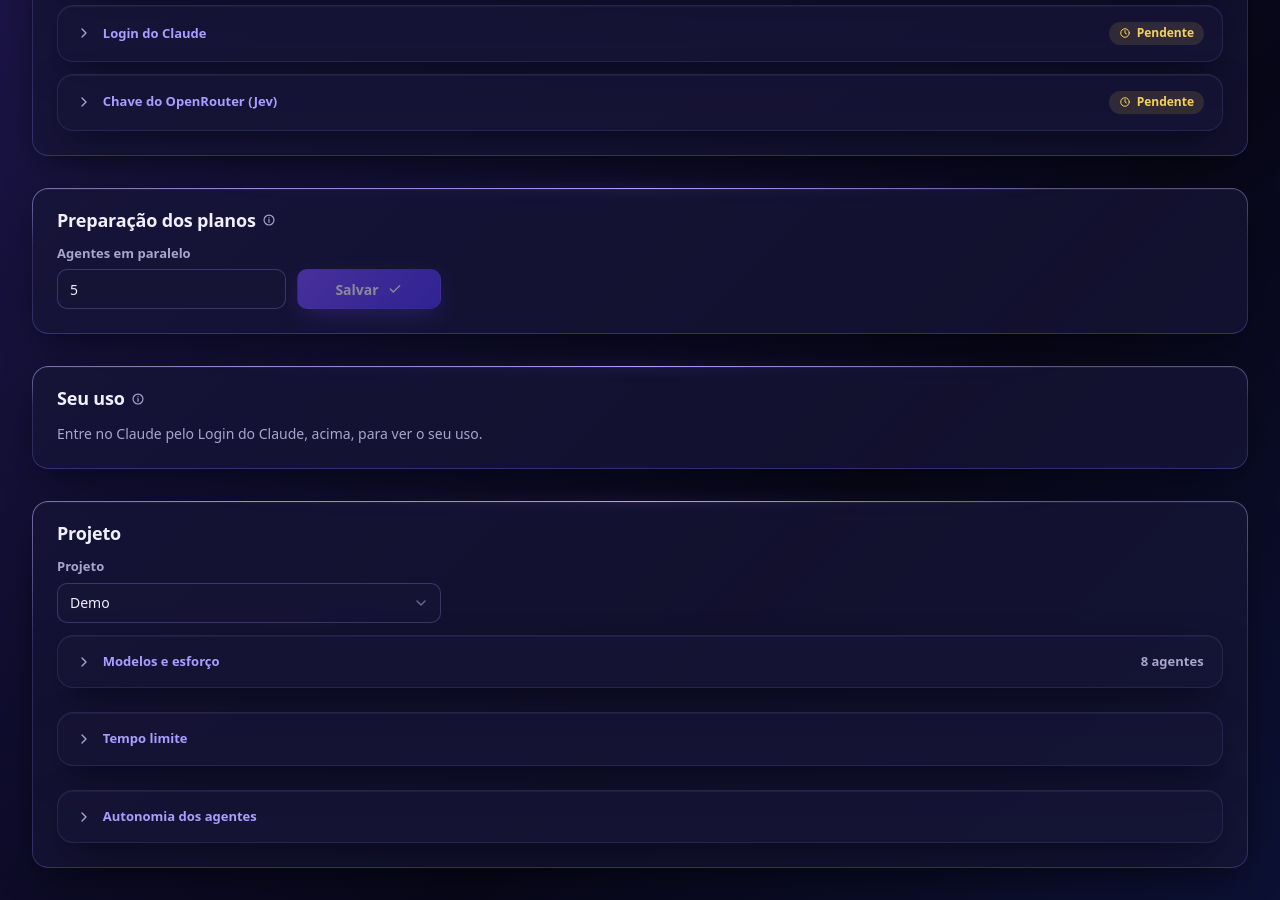
Test: SettingsPage › shows every agent on automatic and saves a manual pick with the default model and effort
This screenshot has width=1280, height=900.
(page scrolled)
Click the text "Modelos e esforço" at (161,661), box [103,652,220,670]
(page scrolled)
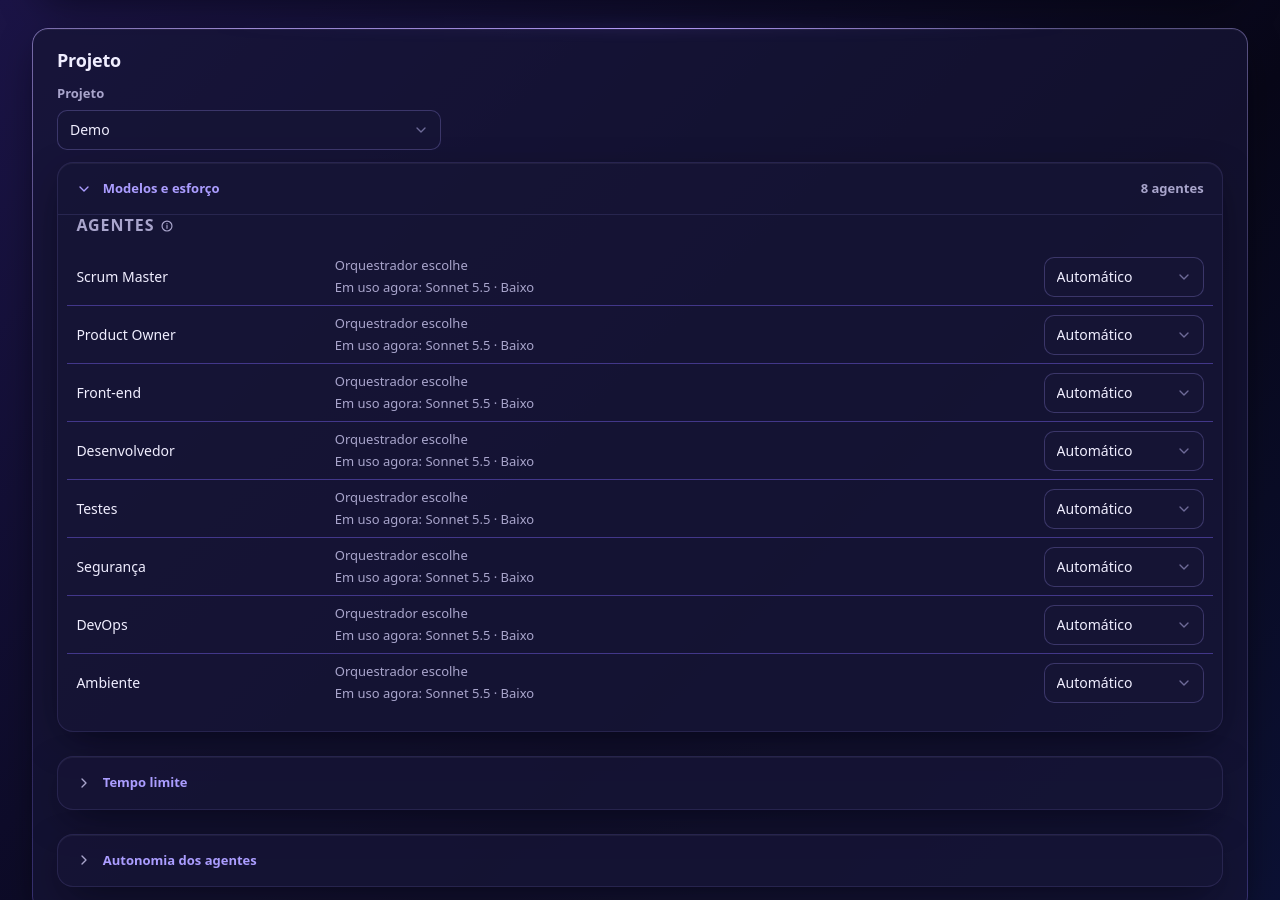
Check: the dropdown named "Modo de Desenvolvedor" shows "Automático"
Select "Manual" in the dropdown named "Modo de Desenvolvedor" at (1124,451), box [1044,431,1204,471]
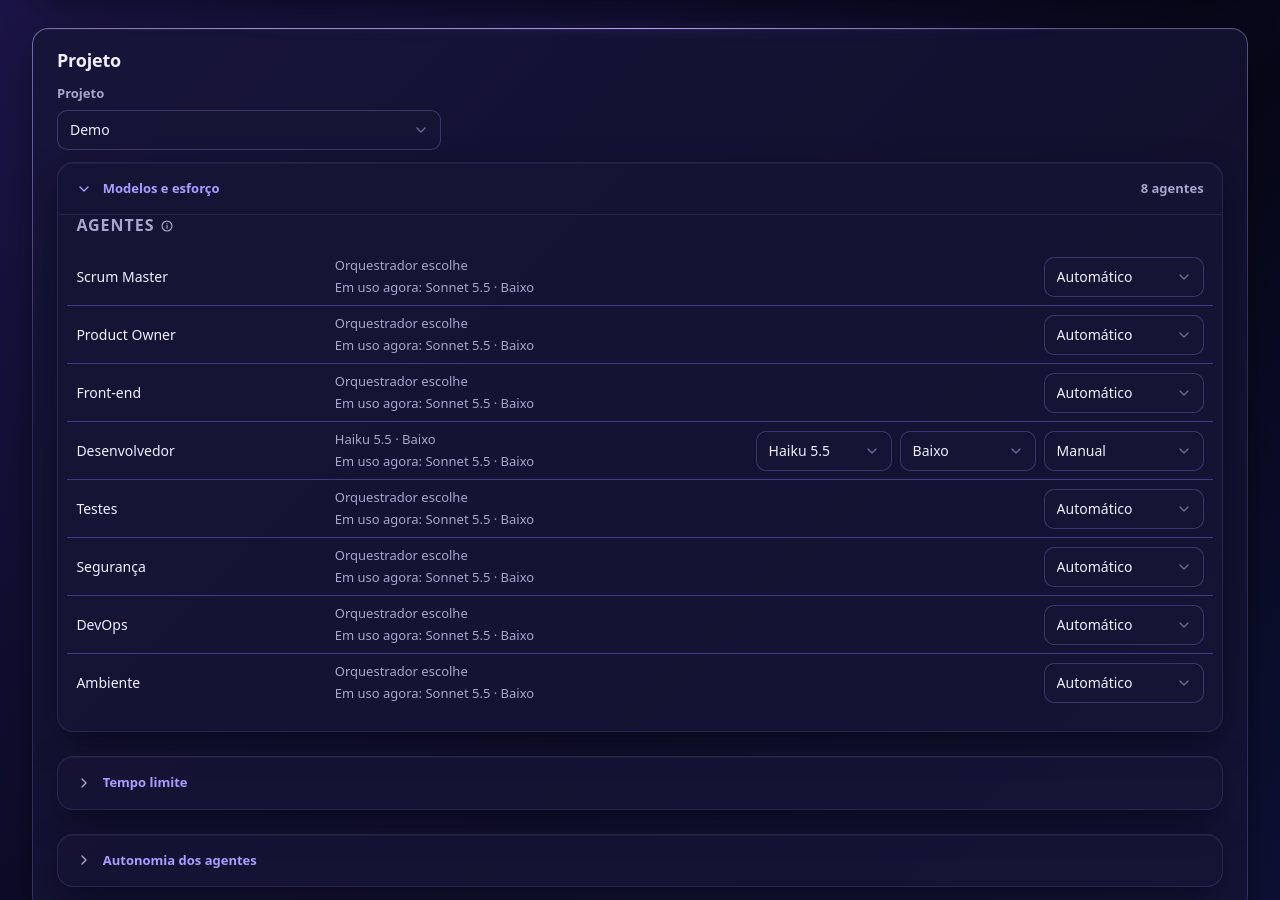
Check: the dropdown named "Modelo de Desenvolvedor" is shown, box [756,431,892,471]
